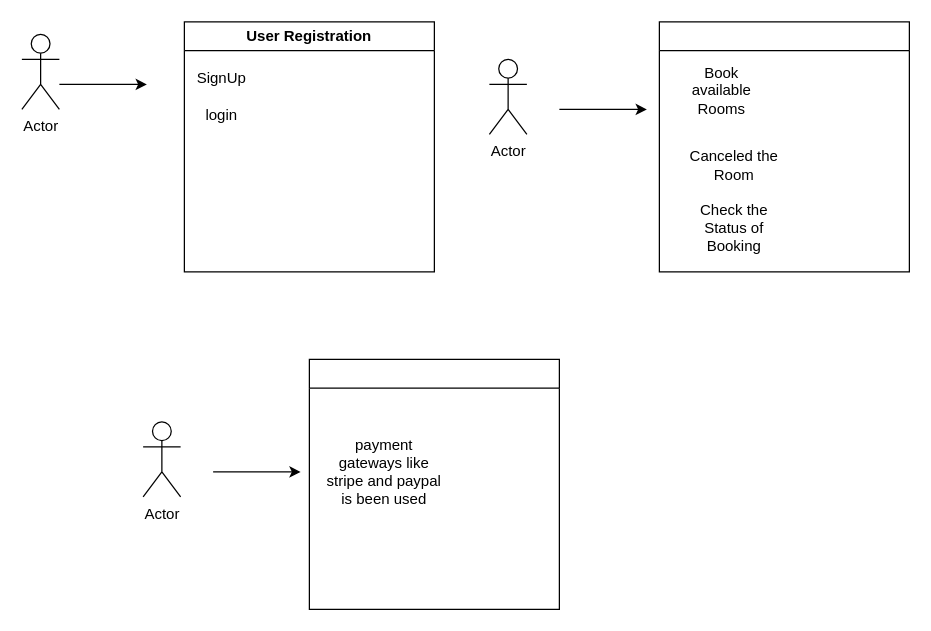
Image size: 931x631. Some labels were removed from this diagram. The shapes that lost their labels are listed below. From the top down, each one's box as (x1, y1, x2, y2) in pixels, then its label:
(658, 21, 909, 272): Property Booking
(308, 358, 559, 609): Payments
